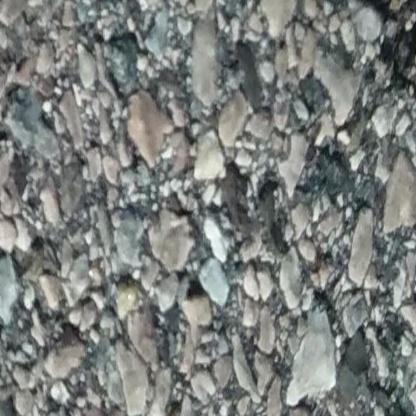Cracks: (305, 0, 416, 168)
